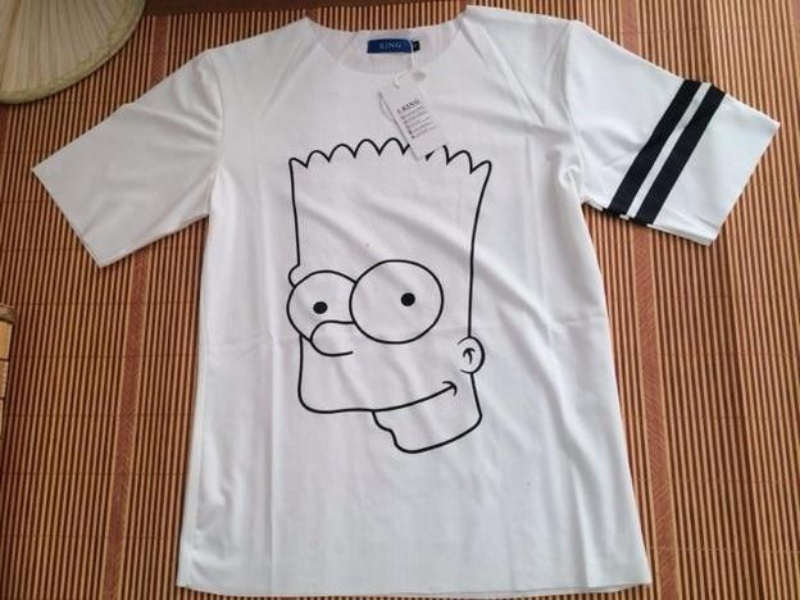short_sleeved_shirt: (31, 6, 779, 599)
